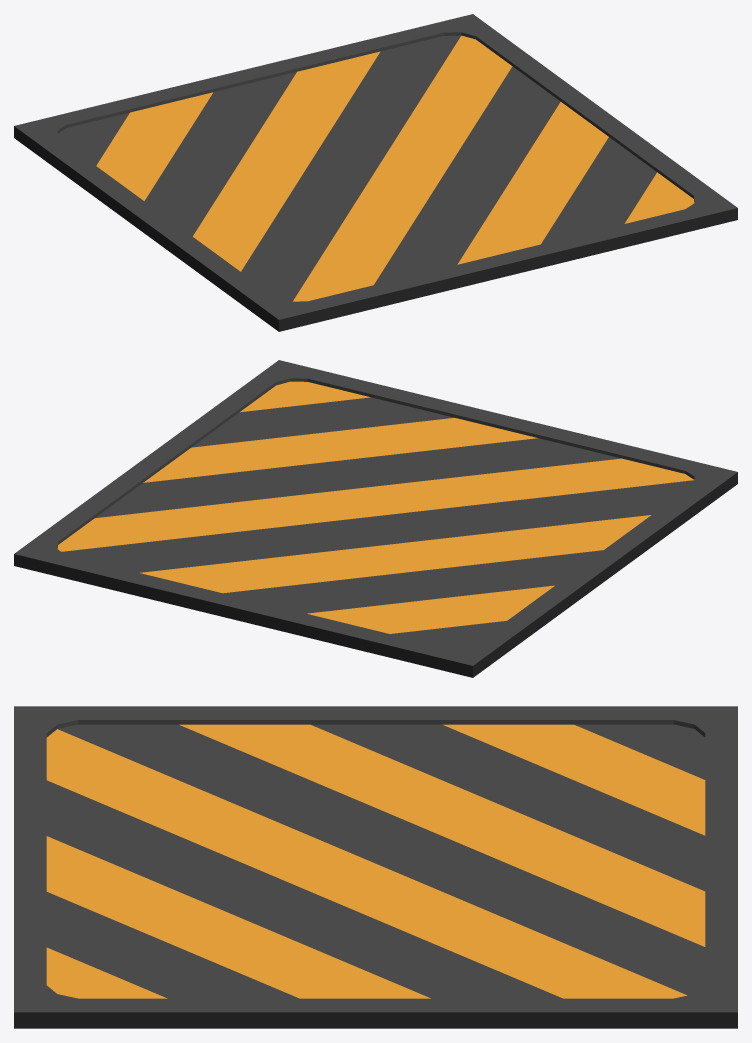
The model's file is PanelSciFi_01.glb.
The picture shows the model from 3 angles, top to bottom: view 1: azimuth 30°, elevation 25°; view 2: azimuth 150°, elevation 25°; view 3: azimuth 270°, elevation 25°; orthographic projection. The views are drawn at different scales.
Parts seen in each view (by area): view 1: PanelSciFi_01; view 2: PanelSciFi_01; view 3: PanelSciFi_01.
Boxes of the visible parts, x1,y1,x2,y2 form: PanelSciFi_01: [14, 14, 737, 331]; PanelSciFi_01: [14, 360, 737, 677]; PanelSciFi_01: [14, 706, 737, 1028].
Size of what is drawn, in the model's own units: 2 by 0.05 by 2.
Materials: 1 (1 with a texture image).
